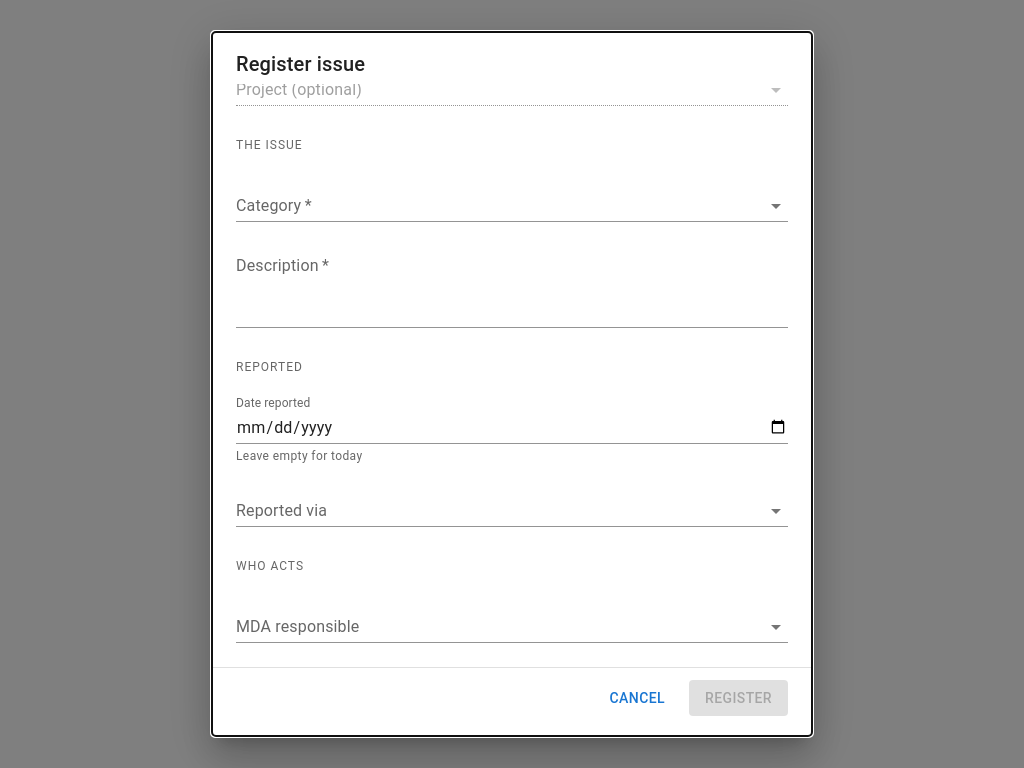
Scenario: IssueForm › MDA search matches the name or the abbreviation, with "(MoU)" in the options
The image size is (1024, 768).
(page scrolled)
Step 1. Type "lands" into the dropdown labelled "MDA responsible" → x=497, y=626, box [236,610,758,642]
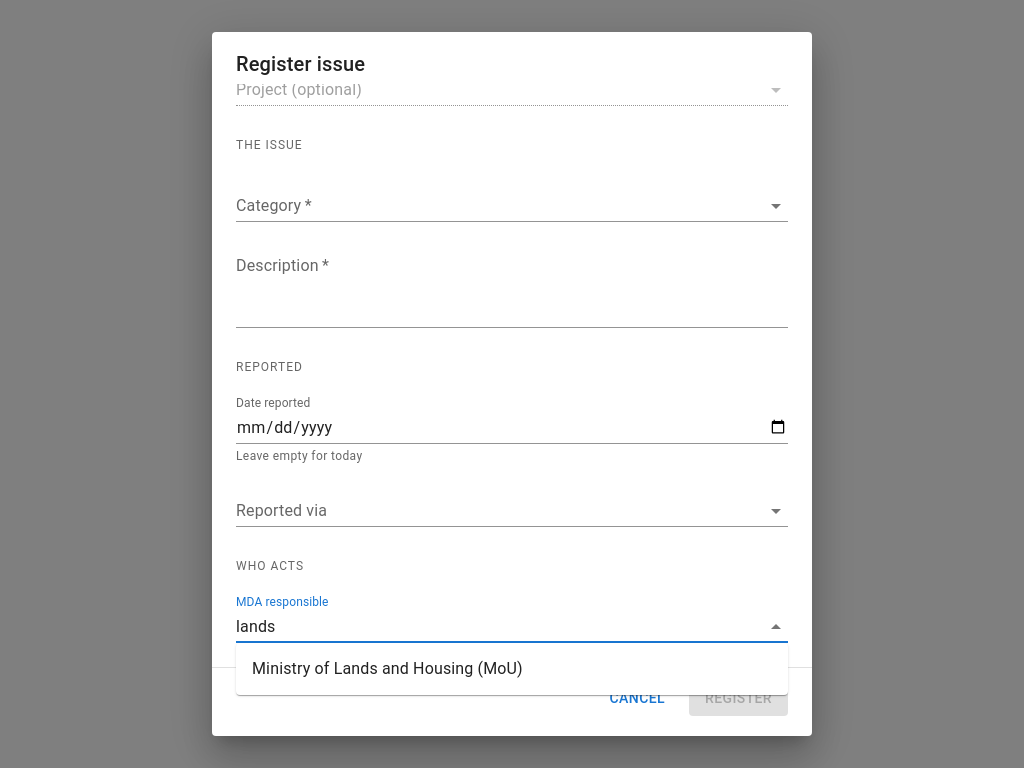
Now the options read "Ministry of Lands and Housing (MoU)", in this order, box [252,659,523,678]
Step 2. Replace the text in the dropdown labelled "MDA responsible" with "housing corp" → x=497, y=626, box [236,610,758,642]
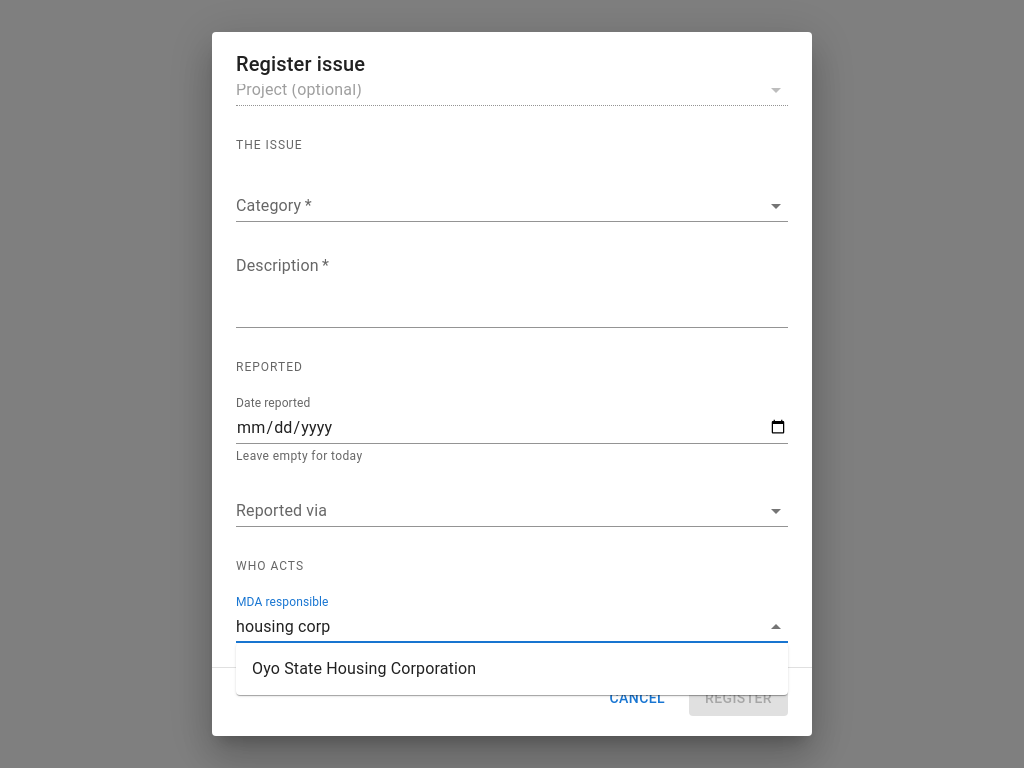
Now the options read "Oyo State Housing Corporation", in this order, box [252,659,476,678]
